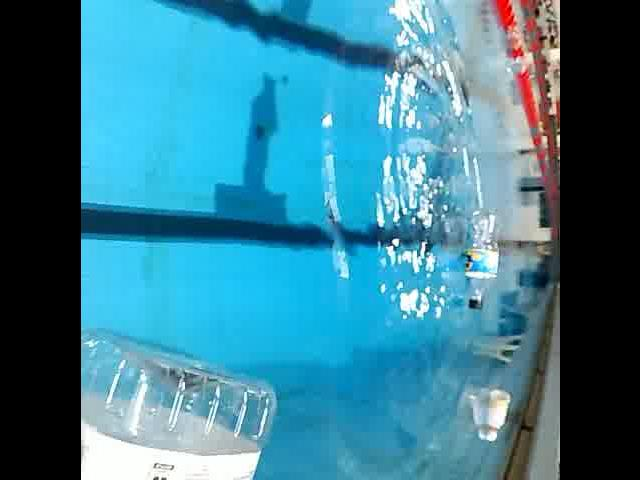Bottle: (80, 322, 281, 480), (458, 203, 501, 317), (476, 382, 514, 452)
